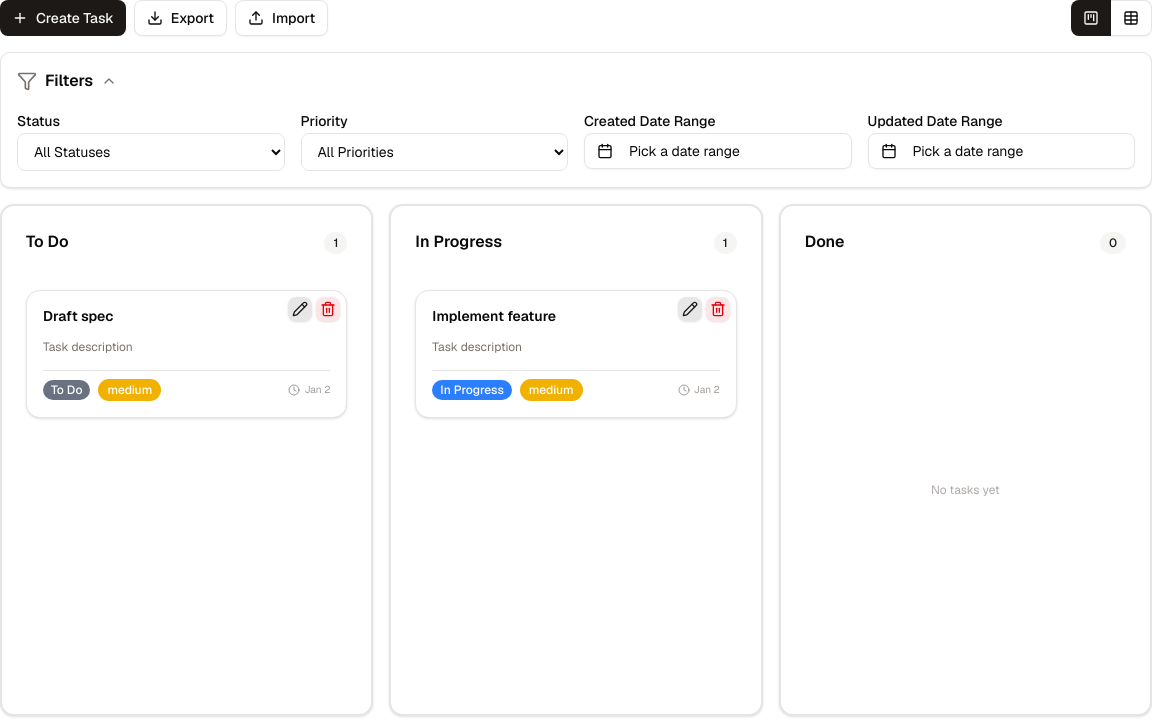
Test case: TaskList › switches to table view when Table view toggle is clicked
expect the button named "task view mode" is shown: met, box [1071, 0, 1151, 36]
Click the 2nd button named "table view" at (1132, 18), box [1111, 0, 1151, 36]
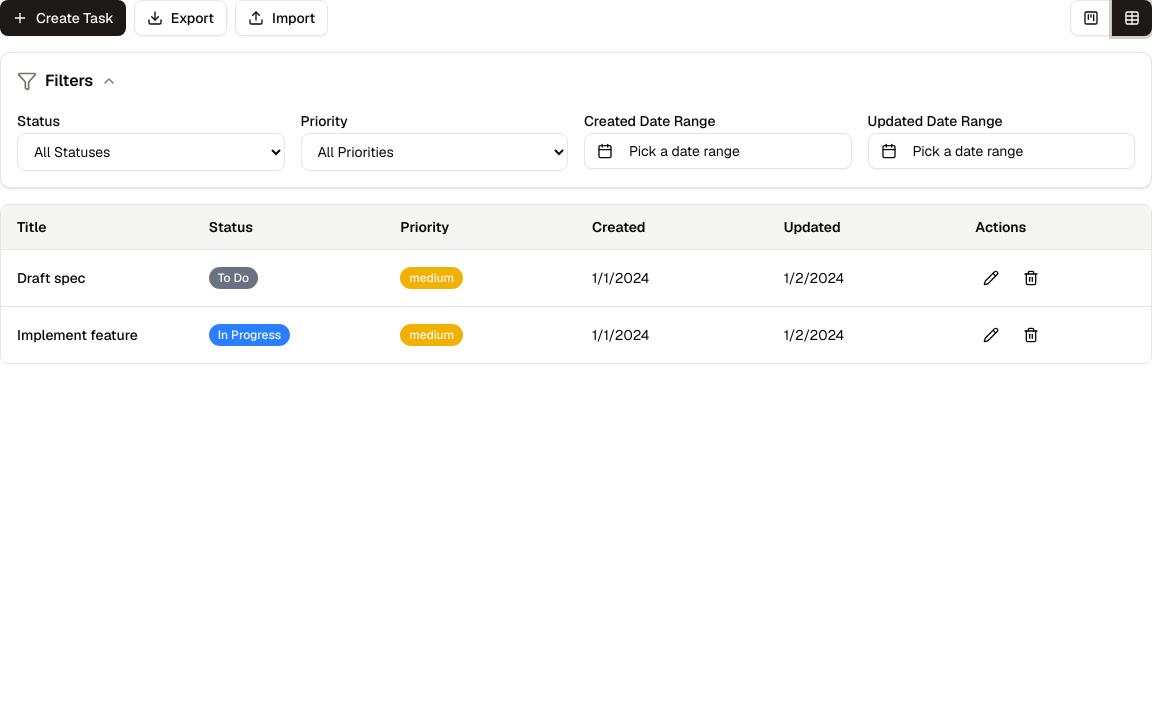
expect the table named "tasks table" is shown: met, box [1, 205, 1151, 363]
expect the column heading "Title" is shown: met, box [1, 205, 193, 250]
expect the column heading "Status" is shown: met, box [193, 205, 384, 250]
